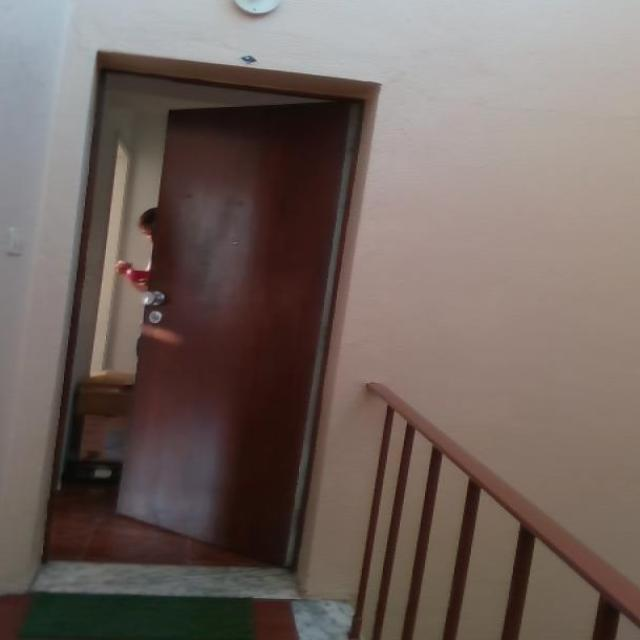door: (118, 99, 355, 559)
